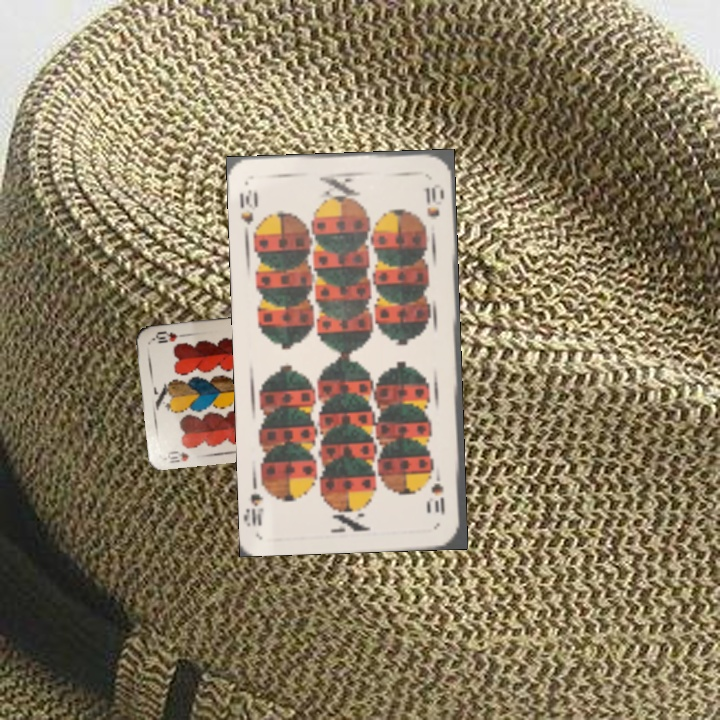H10: (163, 447, 192, 465)
S10: (235, 185, 260, 240), (430, 464, 447, 518)
